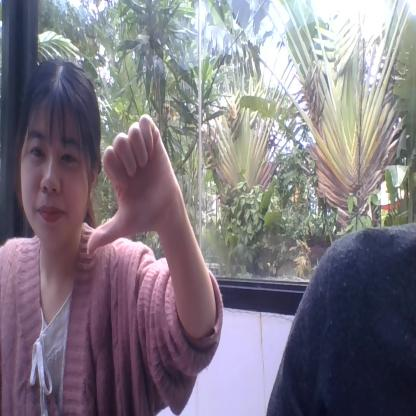right: (87, 113, 179, 264)
